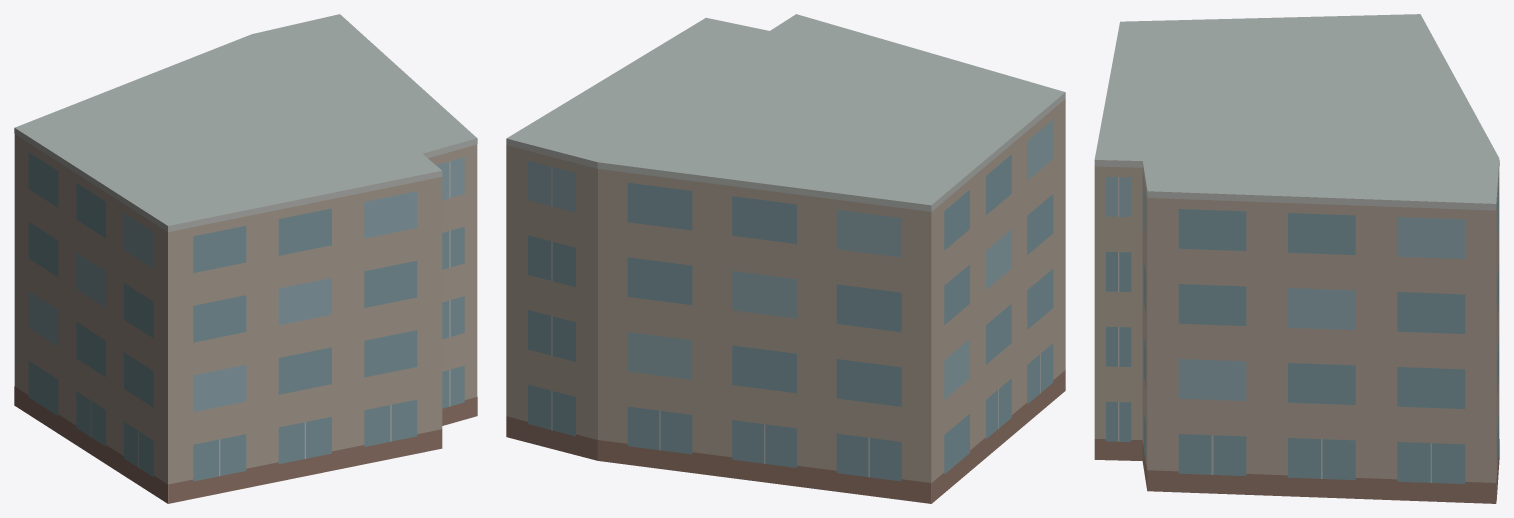
The model's file is survey-upis-33020075.glb.
3 renders of one model, left to right at view 1: azimuth 30°, elevation 25°; view 2: azimuth 150°, elevation 25°; view 3: azimuth 270°, elevation 25°, orthographic. The views are drawn at different scales.
Visible parts, largest first — view 1: survey-upis-33020075.tmp; view 2: survey-upis-33020075.tmp; view 3: survey-upis-33020075.tmp.
Boxes of the visible parts, bbox=[...] form: survey-upis-33020075.tmp: bbox=[14, 14, 477, 503]; survey-upis-33020075.tmp: bbox=[506, 14, 1065, 503]; survey-upis-33020075.tmp: bbox=[1094, 14, 1499, 503].
Size of the model in its own units: 15.09 by 11.1 by 13.59.
